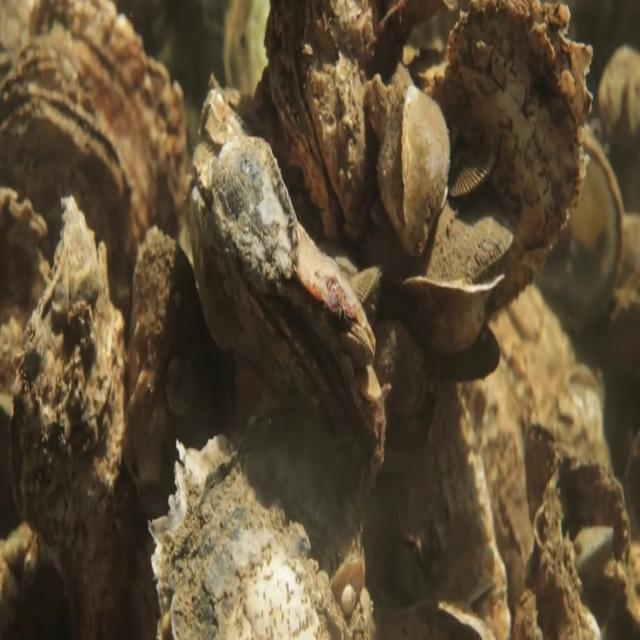Oyster-Closed: (187, 86, 388, 508), (146, 389, 380, 637), (8, 186, 137, 633), (430, 2, 597, 326), (1, 72, 150, 309), (257, 4, 377, 246), (376, 79, 455, 266), (0, 183, 55, 420), (295, 246, 380, 376), (406, 192, 522, 282), (404, 284, 495, 356), (447, 109, 504, 205), (571, 517, 617, 602), (348, 249, 389, 325), (355, 363, 384, 414)
Oyster-Indeterminate: (5, 2, 183, 228), (121, 215, 237, 485), (524, 416, 640, 638), (204, 124, 308, 310), (378, 313, 434, 425)
